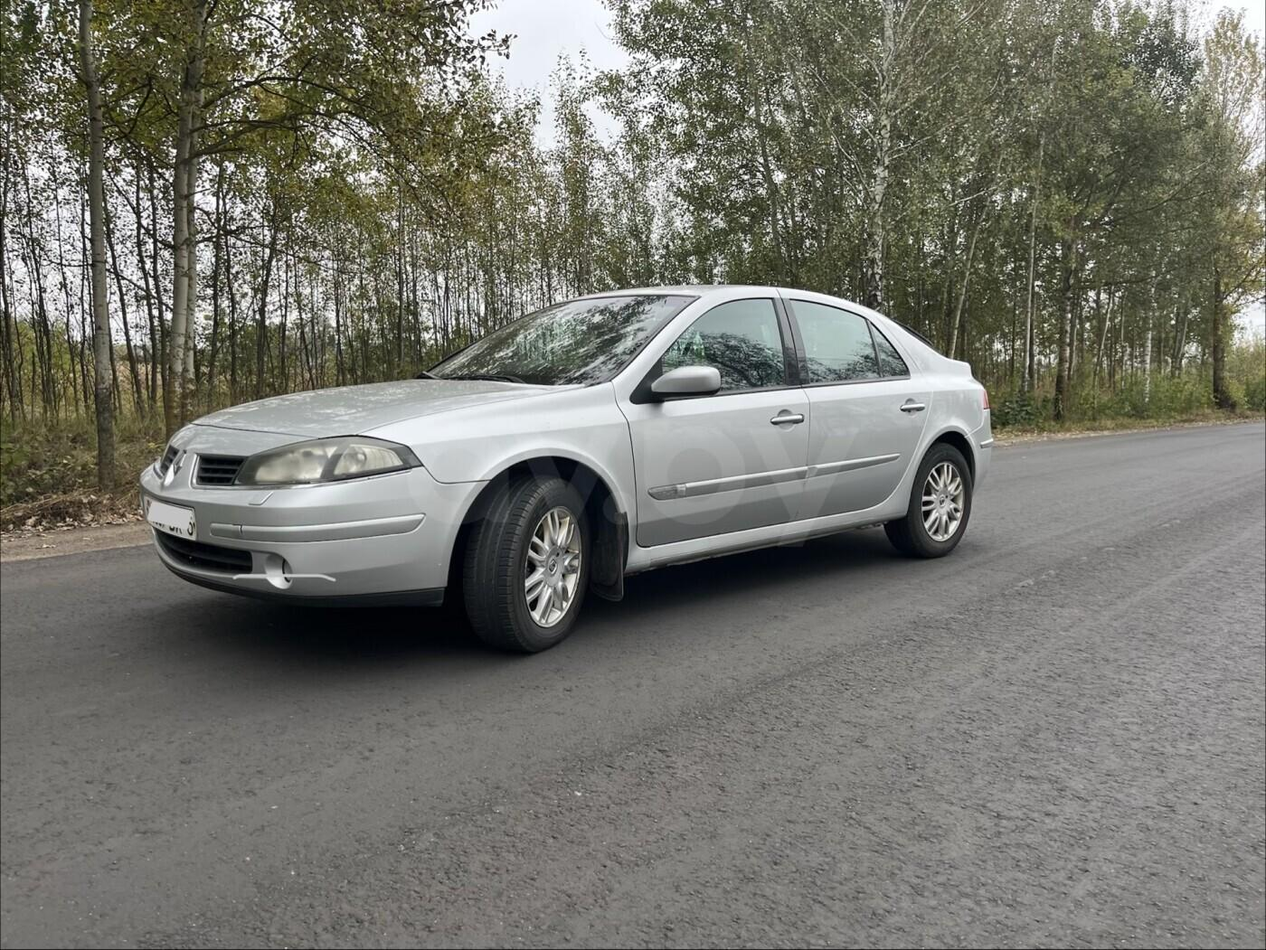Laguna_2005-2007: (133, 279, 1010, 660)
